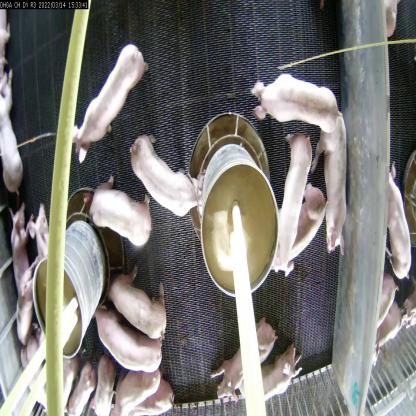Pig: (65, 37, 157, 164), (260, 105, 310, 276), (130, 119, 201, 235), (257, 53, 339, 142), (91, 297, 166, 384), (85, 167, 156, 254), (112, 268, 176, 348), (320, 110, 352, 260), (276, 177, 332, 261), (8, 213, 38, 335), (107, 352, 161, 415), (65, 352, 107, 415), (88, 342, 121, 415)
